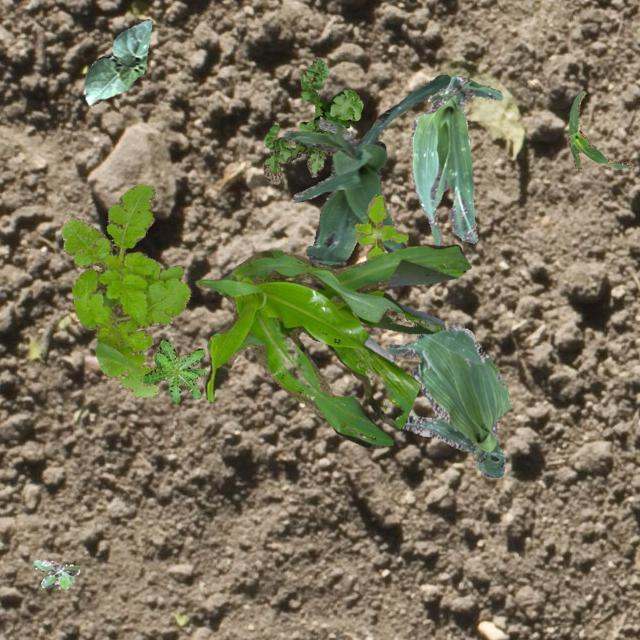crop: (195, 244, 470, 446), (280, 72, 450, 264), (386, 324, 509, 476), (408, 74, 502, 246), (82, 19, 152, 104), (566, 90, 634, 170)
weed: (60, 184, 190, 396), (262, 58, 362, 182), (142, 338, 206, 402), (353, 194, 408, 258), (33, 558, 79, 588)
